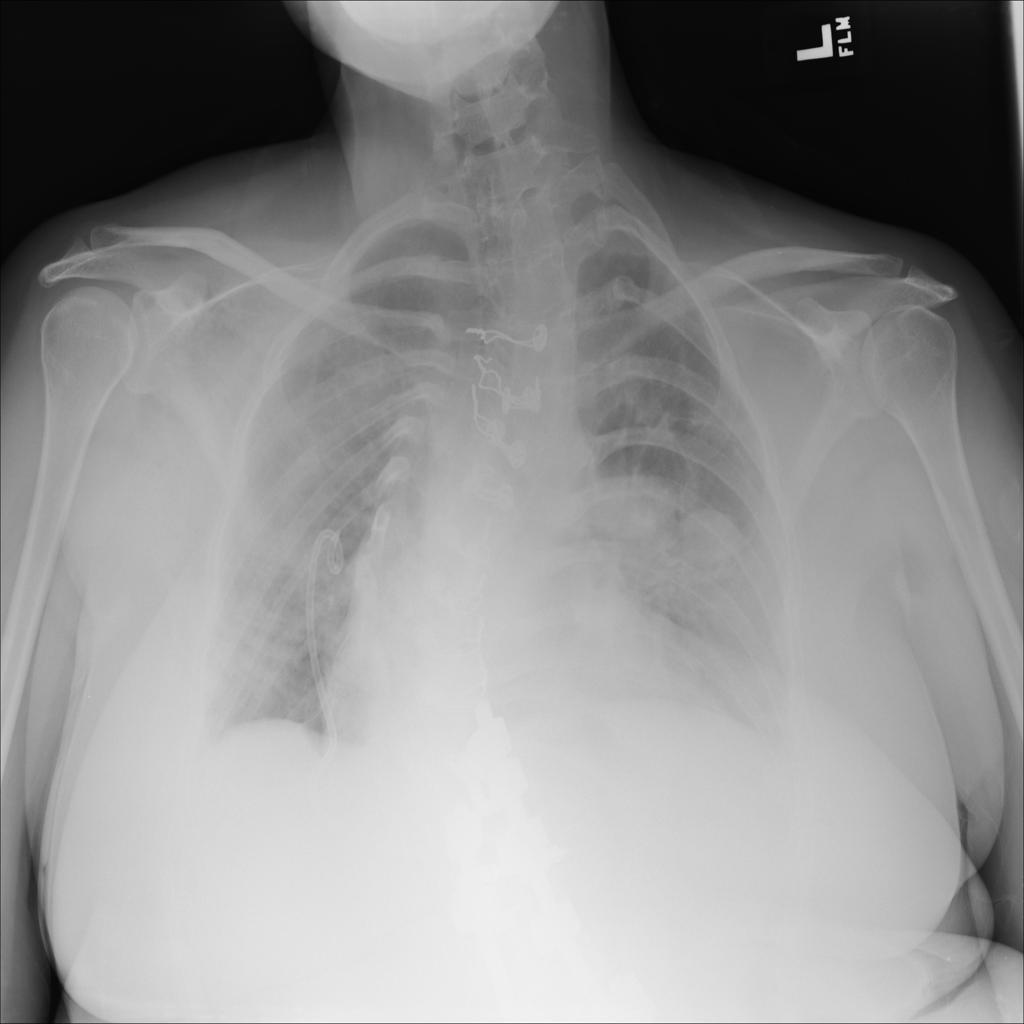nodule: (594, 474, 677, 554), (673, 499, 751, 575)
